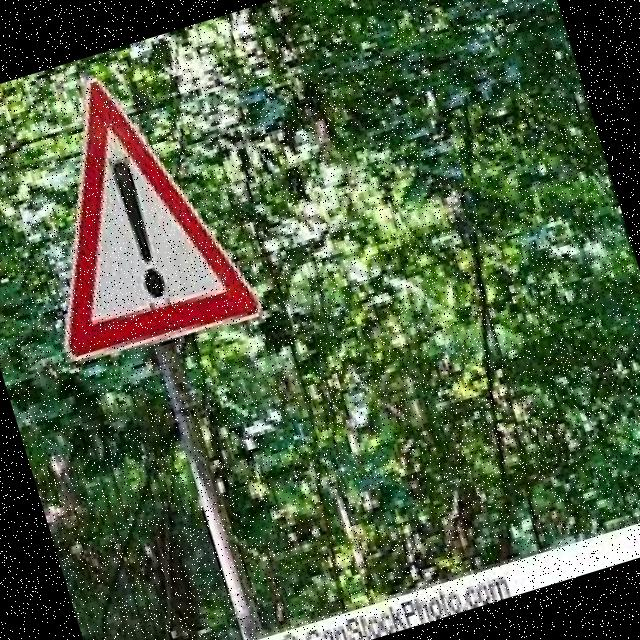warning: (0, 38, 273, 391)
